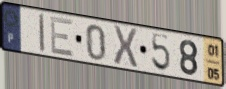0: (84, 22, 108, 62)
5: (149, 31, 172, 73)
8: (178, 39, 200, 77)
E: (49, 15, 75, 59)
I: (38, 12, 46, 55)
X: (112, 23, 139, 69)
